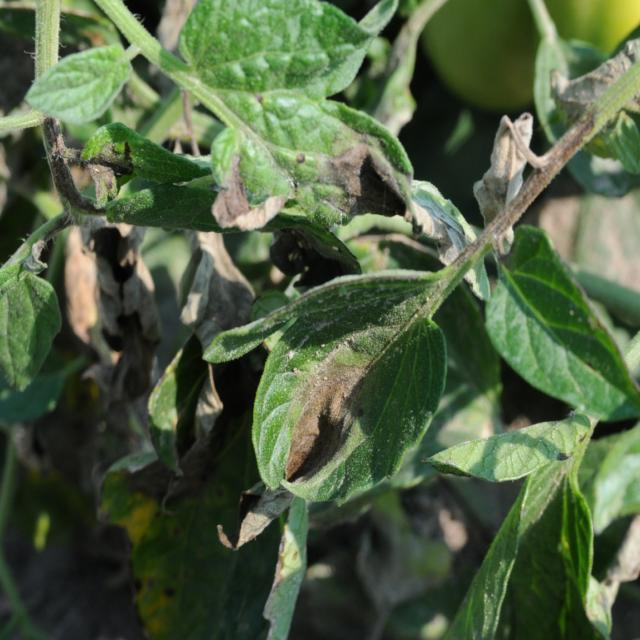Late_blight: (317, 125, 455, 264), (62, 218, 165, 362), (279, 354, 373, 484), (474, 110, 534, 255), (179, 230, 256, 341), (209, 148, 286, 233)
